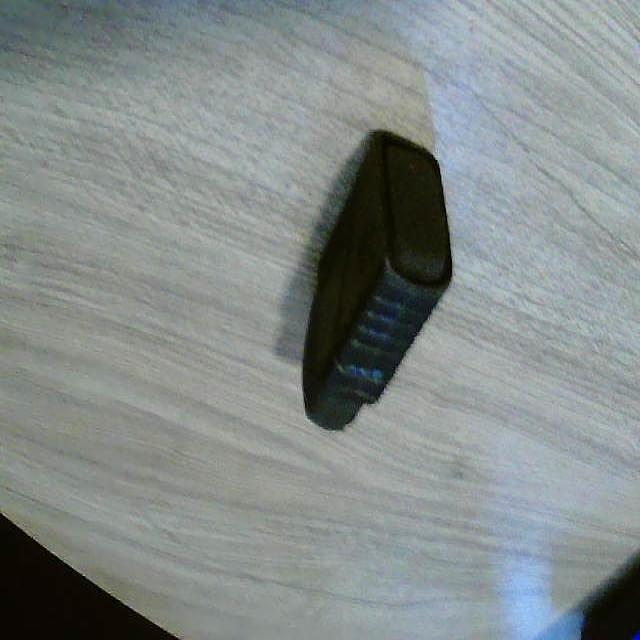borracha: (282, 87, 473, 469)
